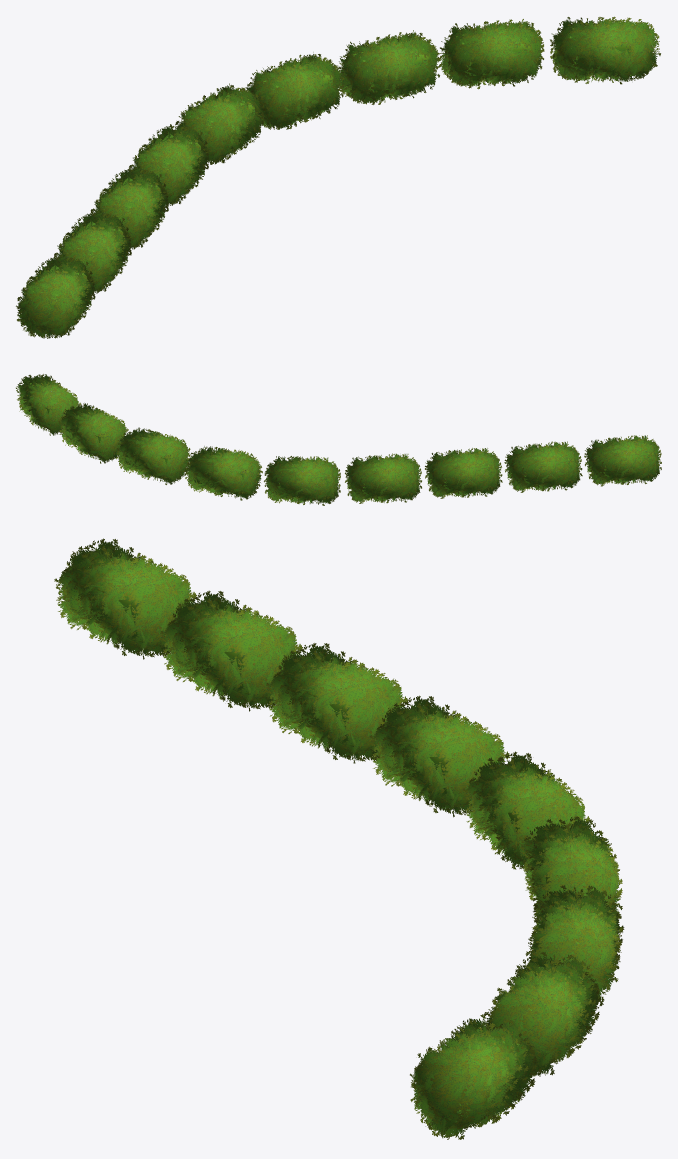
The model's file is SM_Bush06_Splines_3.fbx.
3 views of the same model, one above another, from view 1: azimuth 30°, elevation 25°; view 2: azimuth 150°, elevation 25°; view 3: azimuth 270°, elevation 25° (orthographic). The views are drawn at different scales.
Parts seen in each view (by area): view 1: SM_Bush06_Splines_3_LOD0; view 2: SM_Bush06_Splines_3_LOD0; view 3: SM_Bush06_Splines_3_LOD0.
Part boxes in pixels (box(x1,y1,x2,y2)): SM_Bush06_Splines_3_LOD0: box(16, 16, 660, 338); SM_Bush06_Splines_3_LOD0: box(16, 374, 661, 505); SM_Bush06_Splines_3_LOD0: box(54, 538, 624, 1139).
Size of the model in its own units: 2107 by 941 by 166.
